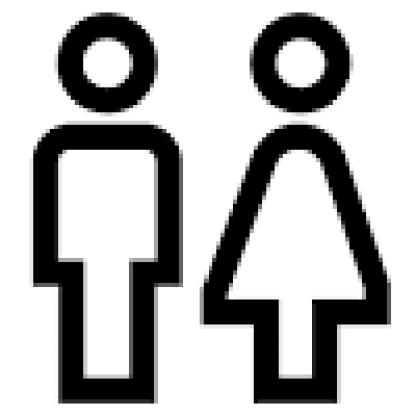toilet: (26, 14, 399, 410)
